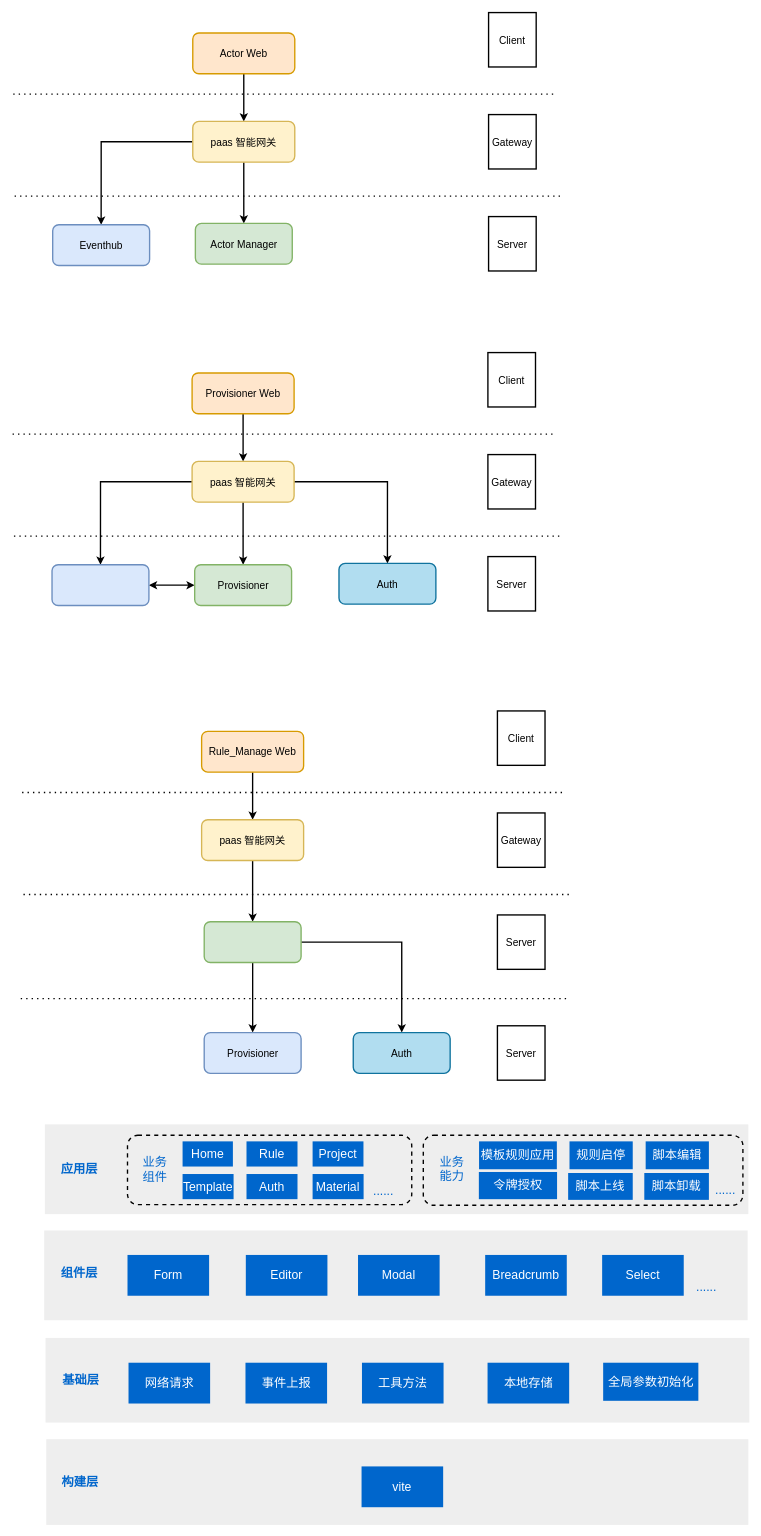
This 761x1536 diagram has some shape labels left out. Here are the shapes that lost their labels. From the top down, the centre of each, then its label:
At (x=100, y=585): "COS".
At (x=252, y=942): "Application".
